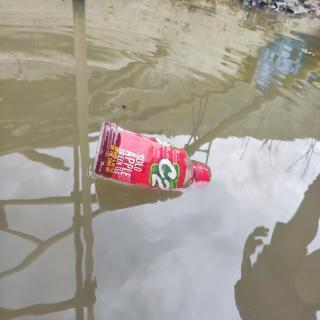bottle: (90, 119, 212, 197)
